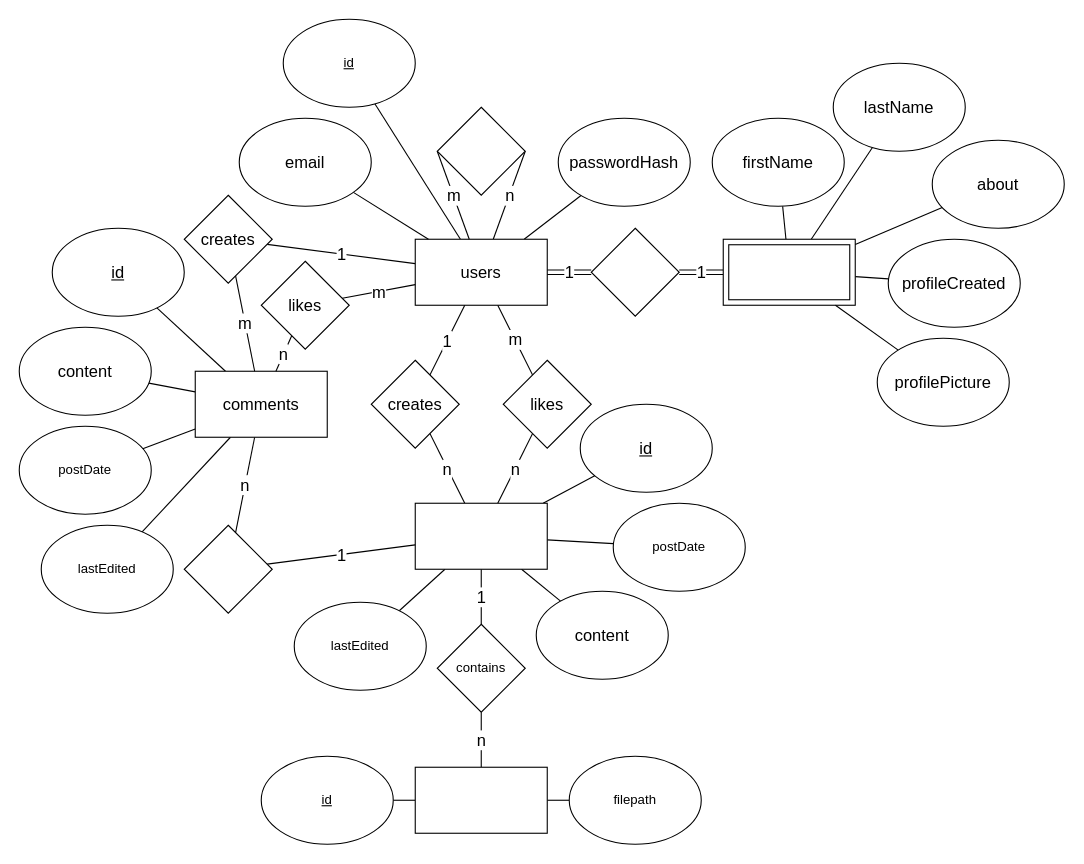
Image size: 1084x864. Some labels were removed from this diagram. The shapes that lost their labels are listed below. From the top down, each one's centre as x and y in pixels, then its label:
At pixel 480 150: "follows".
At pixel 634 271: "is".
At pixel 788 271: "userProfiles".
At pixel 480 535: "posts".
At pixel 227 568: "respond".
At pixel 480 799: "images".
